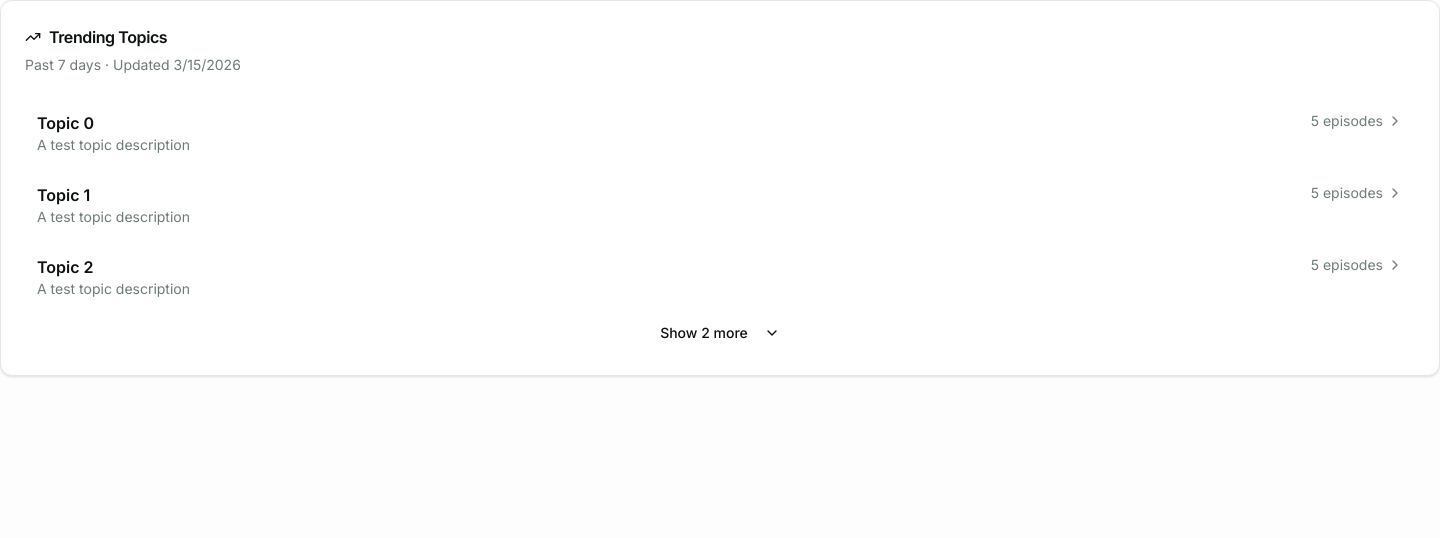
Test: TrendingTopics › toggle behaviour › shows all topics after clicking the expand button
The width and height of the screenshot is (1440, 538).
Click the button "Show 2 more": (720, 333) [25, 315, 1415, 351]
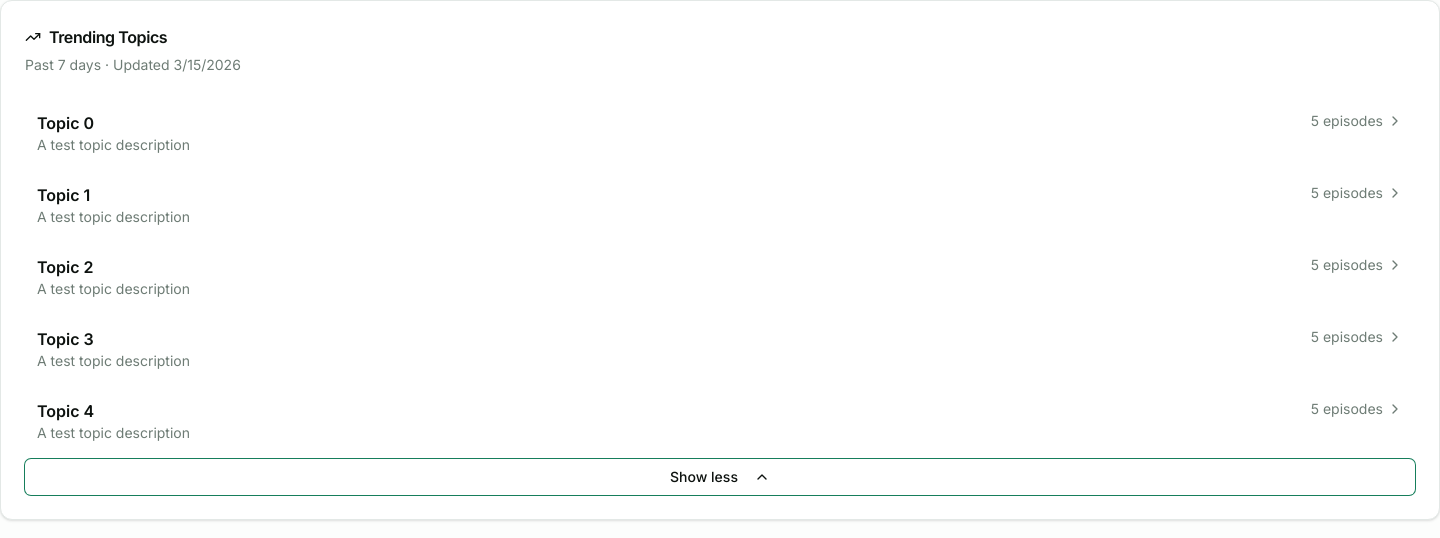
Expected: the number of links is 5, [25, 99, 1415, 167]; [25, 171, 1415, 239]; [25, 243, 1415, 311]; [25, 315, 1415, 383]; [25, 387, 1415, 455]
